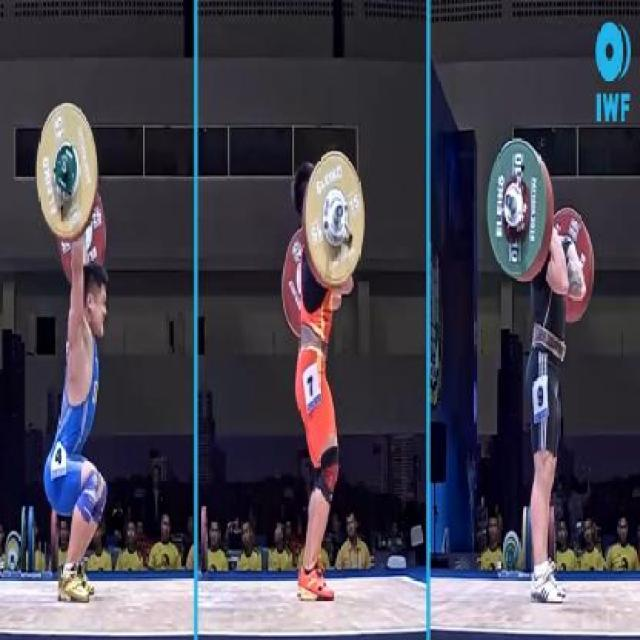barbell: (34, 96, 106, 248), (303, 140, 371, 297), (487, 137, 555, 291)
